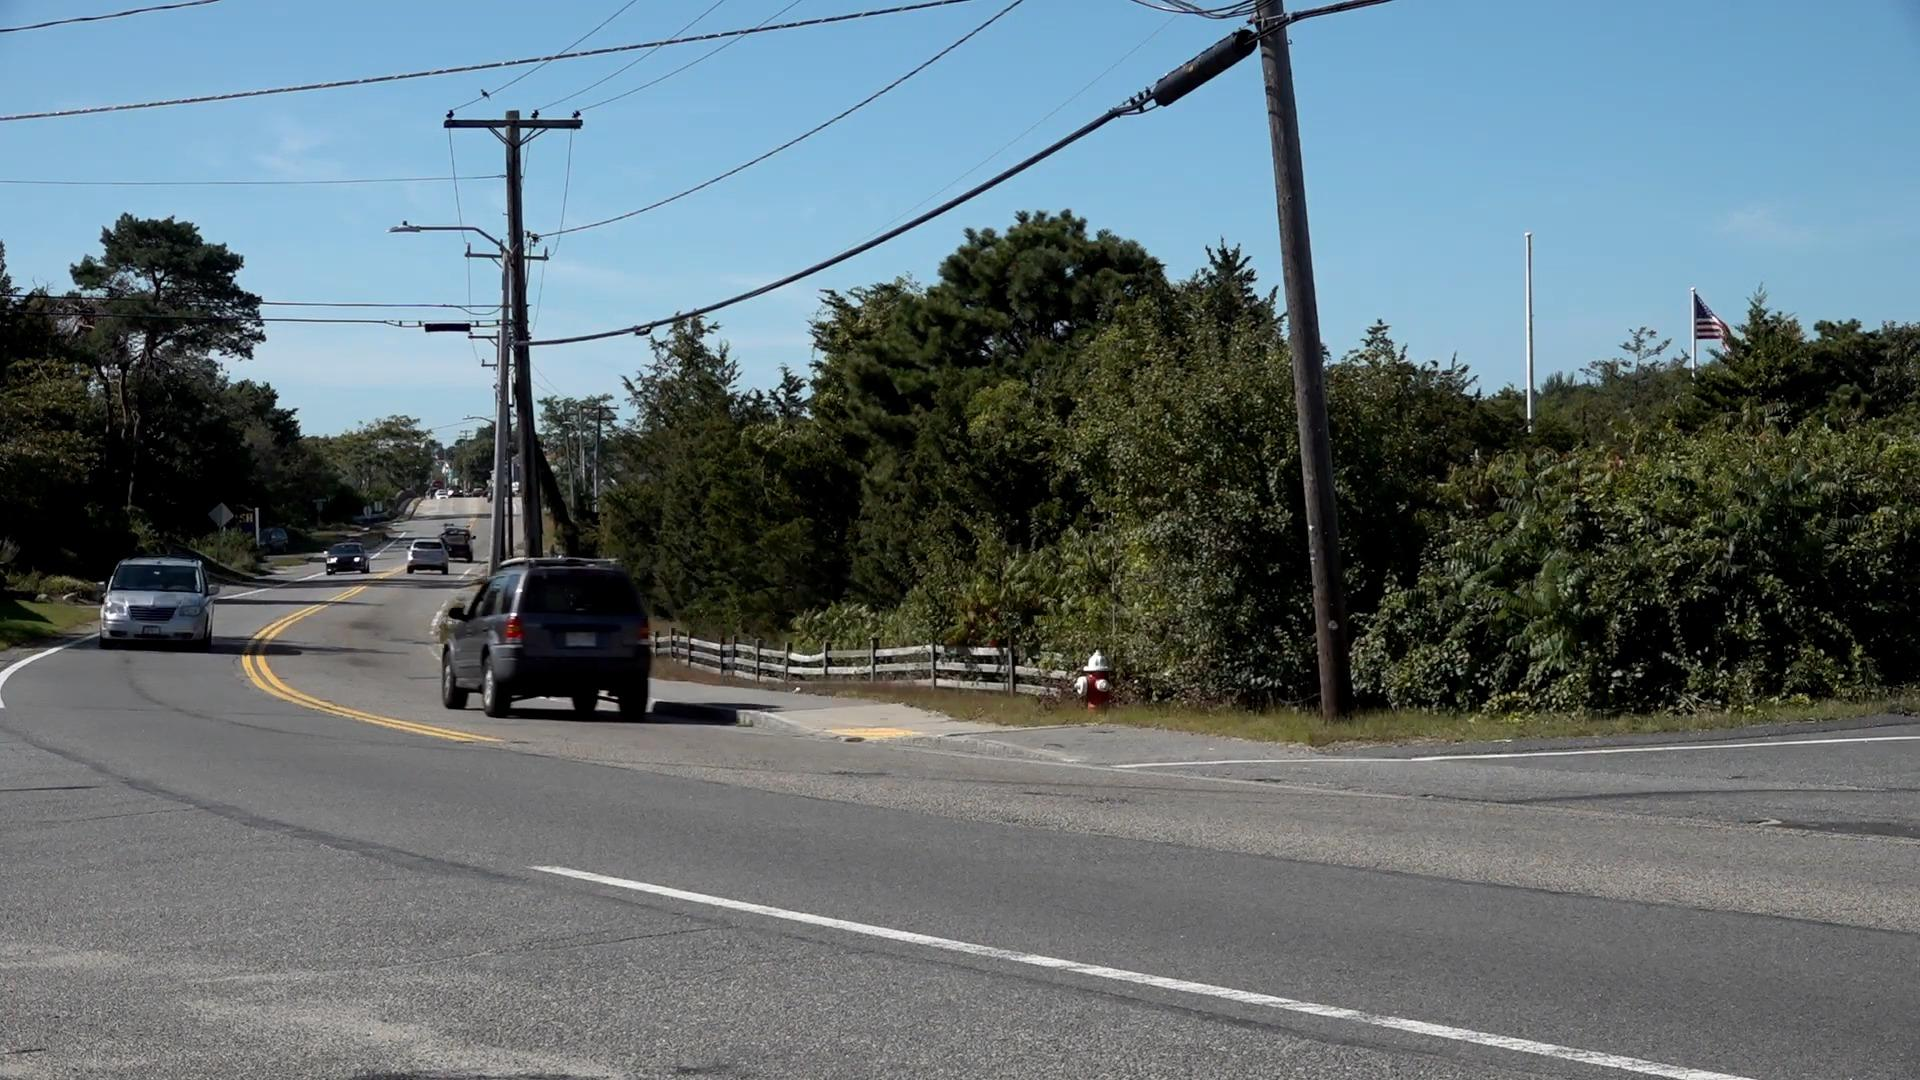sedans: (326, 544, 371, 573)
suv: (427, 559, 659, 716), (104, 559, 211, 646), (407, 539, 449, 574)
